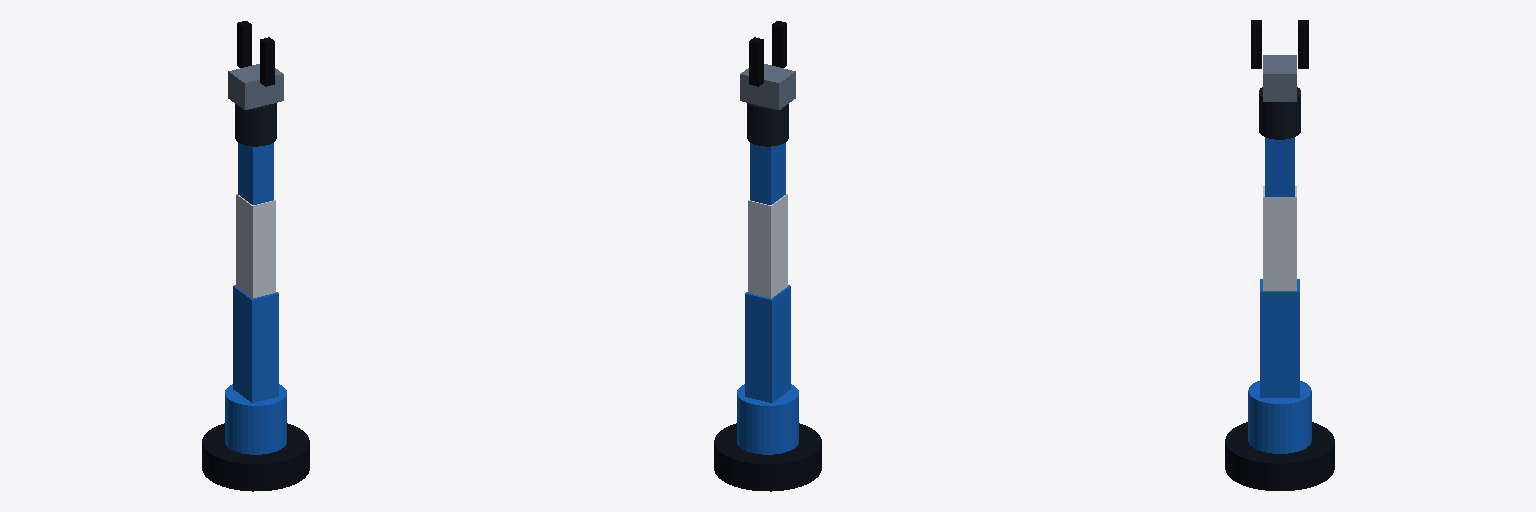
URDF robot description (robot_scope_generic_so101):
<?xml version="1.0"?>
<!--
  Robot Scope generic SO-101-class dashboard model.
  Copyright (c) 2026 Robot Scope contributors. MIT licensed.

  This is an original primitive-only approximation. It is not an official
  SO-101 CAD/URDF and its link lengths, joint limits, and geometry are not
  suitable for collision checking, simulation, control, or fabrication.
-->
<robot name="robot_scope_generic_so101">
  <robot_scope
    robot_type="so-101"
    name="Generic SO-101-class approximation"
    display_name="SO-101 (generic approximation)"
    fidelity="generic-approximation"
    approximate_size_m="0.35 0.22 0.82"
    base_height_m="0.0"
    notice="Robot Scope generic SO-101-class visualization; not an official or dimensionally accurate kinematic model."/>

  <link name="base_link">
    <visual>
      <origin xyz="0 0 0.025" rpy="0 0 0"/>
      <geometry><cylinder radius="0.09" length="0.05"/></geometry>
      <material name="base_dark"><color rgba="0.08 0.10 0.14 1"/></material>
    </visual>
  </link>

  <link name="shoulder_pan_link">
    <visual>
      <origin xyz="0 0 0.045" rpy="0 0 0"/>
      <geometry><cylinder radius="0.052" length="0.09"/></geometry>
      <material name="arm_blue"><color rgba="0.13 0.43 0.78 1"/></material>
    </visual>
  </link>
  <joint name="shoulder_pan" type="revolute">
    <parent link="base_link"/><child link="shoulder_pan_link"/>
    <origin xyz="0 0 0.05" rpy="0 0 0"/><axis xyz="0 0 1"/>
    <limit lower="-1.92" upper="1.92" effort="1" velocity="2"/>
  </joint>

  <link name="shoulder_lift_link">
    <visual>
      <origin xyz="0 0 0.095" rpy="0 0 0"/>
      <geometry><box size="0.052 0.065 0.19"/></geometry>
      <material name="arm_blue"><color rgba="0.13 0.43 0.78 1"/></material>
    </visual>
  </link>
  <joint name="shoulder_lift" type="revolute">
    <parent link="shoulder_pan_link"/><child link="shoulder_lift_link"/>
    <origin xyz="0 0 0.09" rpy="0 0 0"/><axis xyz="0 1 0"/>
    <limit lower="-1.57" upper="1.57" effort="1" velocity="2"/>
  </joint>

  <link name="elbow_flex_link">
    <visual>
      <origin xyz="0 0 0.085" rpy="0 0 0"/>
      <geometry><box size="0.045 0.055 0.17"/></geometry>
      <material name="arm_light"><color rgba="0.78 0.82 0.87 1"/></material>
    </visual>
  </link>
  <joint name="elbow_flex" type="revolute">
    <parent link="shoulder_lift_link"/><child link="elbow_flex_link"/>
    <origin xyz="0 0 0.19" rpy="0 0 0"/><axis xyz="0 1 0"/>
    <limit lower="-1.75" upper="1.75" effort="1" velocity="2"/>
  </joint>

  <link name="wrist_flex_link">
    <visual>
      <origin xyz="0 0 0.055" rpy="0 0 0"/>
      <geometry><box size="0.04 0.05 0.11"/></geometry>
      <material name="arm_blue"><color rgba="0.13 0.43 0.78 1"/></material>
    </visual>
  </link>
  <joint name="wrist_flex" type="revolute">
    <parent link="elbow_flex_link"/><child link="wrist_flex_link"/>
    <origin xyz="0 0 0.17" rpy="0 0 0"/><axis xyz="0 1 0"/>
    <limit lower="-1.57" upper="1.57" effort="1" velocity="2"/>
  </joint>

  <link name="wrist_roll_link">
    <visual>
      <origin xyz="0 0 0.035" rpy="0 0 0"/>
      <geometry><cylinder radius="0.035" length="0.07"/></geometry>
      <material name="wrist_dark"><color rgba="0.12 0.15 0.19 1"/></material>
    </visual>
  </link>
  <joint name="wrist_roll" type="revolute">
    <parent link="wrist_flex_link"/><child link="wrist_roll_link"/>
    <origin xyz="0 0 0.11" rpy="0 0 0"/><axis xyz="0 0 1"/>
    <limit lower="-2.79" upper="2.79" effort="1" velocity="2"/>
  </joint>

  <link name="gripper_body_link">
    <visual>
      <origin xyz="0 0 0.025" rpy="0 0 0"/>
      <geometry><box size="0.075 0.055 0.05"/></geometry>
      <material name="gripper_gray"><color rgba="0.42 0.47 0.54 1"/></material>
    </visual>
  </link>
  <joint name="gripper_roll_mount" type="fixed">
    <parent link="wrist_roll_link"/><child link="gripper_body_link"/>
    <origin xyz="0 0 0.07" rpy="0 0 0"/>
  </joint>

  <link name="left_finger_link">
    <visual>
      <origin xyz="0 0 0.04" rpy="0 0 0"/>
      <geometry><box size="0.018 0.018 0.08"/></geometry>
      <material name="finger_dark"><color rgba="0.07 0.08 0.10 1"/></material>
    </visual>
  </link>
  <joint name="left_finger_mount" type="fixed">
    <parent link="gripper_body_link"/><child link="left_finger_link"/>
    <origin xyz="0 0.038 0.045" rpy="0 0 0"/>
  </joint>

  <link name="right_finger_link">
    <visual>
      <origin xyz="0 0 0.04" rpy="0 0 0"/>
      <geometry><box size="0.018 0.018 0.08"/></geometry>
      <material name="finger_dark"><color rgba="0.07 0.08 0.10 1"/></material>
    </visual>
  </link>
  <joint name="right_finger_mount" type="fixed">
    <parent link="gripper_body_link"/><child link="right_finger_link"/>
    <origin xyz="0 -0.038 0.045" rpy="0 0 0"/>
  </joint>

  <robot_scope_defaults>
    <joint name="shoulder_pan" position="0"/>
    <joint name="shoulder_lift" position="-0.35"/>
    <joint name="elbow_flex" position="0.72"/>
    <joint name="wrist_flex" position="-0.37"/>
    <joint name="wrist_roll" position="0"/>
  </robot_scope_defaults>
</robot>

--- Facts derived from the render (not from the file) ---
Views: 3 orthographic renders of the robot side by side, from view 1: azimuth 30°, elevation 25°; view 2: azimuth 150°, elevation 25°; view 3: azimuth 270°, elevation 25°.
Robot: robot_scope_generic_so101 — 9 links, 8 joints (5 revolute, 3 fixed); root link base_link; default pose: every joint at zero.
Visible links, largest first — view 1: shoulder_lift_link, base_link, elbow_flex_link, shoulder_pan_link, wrist_flex_link, gripper_body_link, wrist_roll_link, right_finger_link, left_finger_link; view 2: shoulder_lift_link, base_link, elbow_flex_link, shoulder_pan_link, wrist_flex_link, gripper_body_link, wrist_roll_link, left_finger_link, right_finger_link; view 3: base_link, shoulder_lift_link, shoulder_pan_link, elbow_flex_link, wrist_flex_link, wrist_roll_link, gripper_body_link, left_finger_link, right_finger_link.
Link boxes in pixels (box(x1,y1,x2,y2)): shoulder_lift_link: box(233, 285, 278, 402); base_link: box(202, 423, 309, 491); elbow_flex_link: box(236, 194, 275, 298); shoulder_pan_link: box(225, 384, 286, 454); wrist_flex_link: box(238, 143, 273, 204); gripper_body_link: box(228, 64, 283, 109); wrist_roll_link: box(235, 103, 276, 146); right_finger_link: box(260, 37, 274, 86); left_finger_link: box(237, 21, 251, 67); shoulder_lift_link: box(745, 285, 790, 402); base_link: box(714, 423, 821, 491); elbow_flex_link: box(748, 194, 787, 298); shoulder_pan_link: box(737, 384, 798, 454); wrist_flex_link: box(750, 143, 785, 204); gripper_body_link: box(740, 64, 795, 109); wrist_roll_link: box(747, 103, 788, 146); left_finger_link: box(749, 37, 763, 86); right_finger_link: box(772, 21, 786, 67); base_link: box(1225, 422, 1334, 490); shoulder_lift_link: box(1260, 279, 1299, 397); shoulder_pan_link: box(1248, 381, 1311, 453); elbow_flex_link: box(1263, 186, 1296, 290); wrist_flex_link: box(1265, 137, 1294, 196); wrist_roll_link: box(1259, 87, 1300, 139); gripper_body_link: box(1263, 55, 1296, 101); left_finger_link: box(1298, 20, 1308, 68); right_finger_link: box(1251, 20, 1261, 68).
Bounding box of the posed robot: 0.18 × 0.18 × 0.805 m (x, y, z).
Geometry: primitives only (box / cylinder / sphere), no mesh files.
